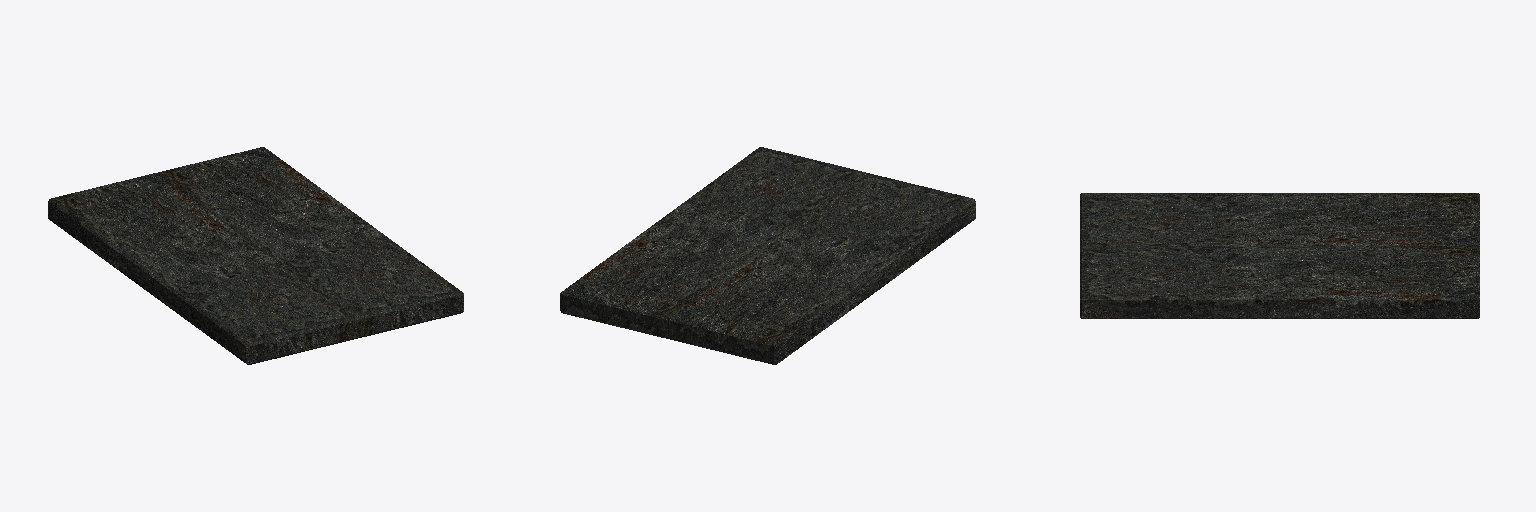
3 views of the same model, side by side, from view 1: azimuth 30°, elevation 25°; view 2: azimuth 150°, elevation 25°; view 3: azimuth 270°, elevation 25° (orthographic).
Visible parts, largest first — view 1: mesh0; view 2: mesh0; view 3: mesh0.
Boxes of the visible parts, x1=… form: mesh0: x1=48, y1=147, x2=463, y2=364; mesh0: x1=560, y1=147, x2=975, y2=364; mesh0: x1=1080, y1=193, x2=1479, y2=318.
Size of the model in its own units: 5.79 by 0.5501 by 9.24.
1 materials, 1 textured.